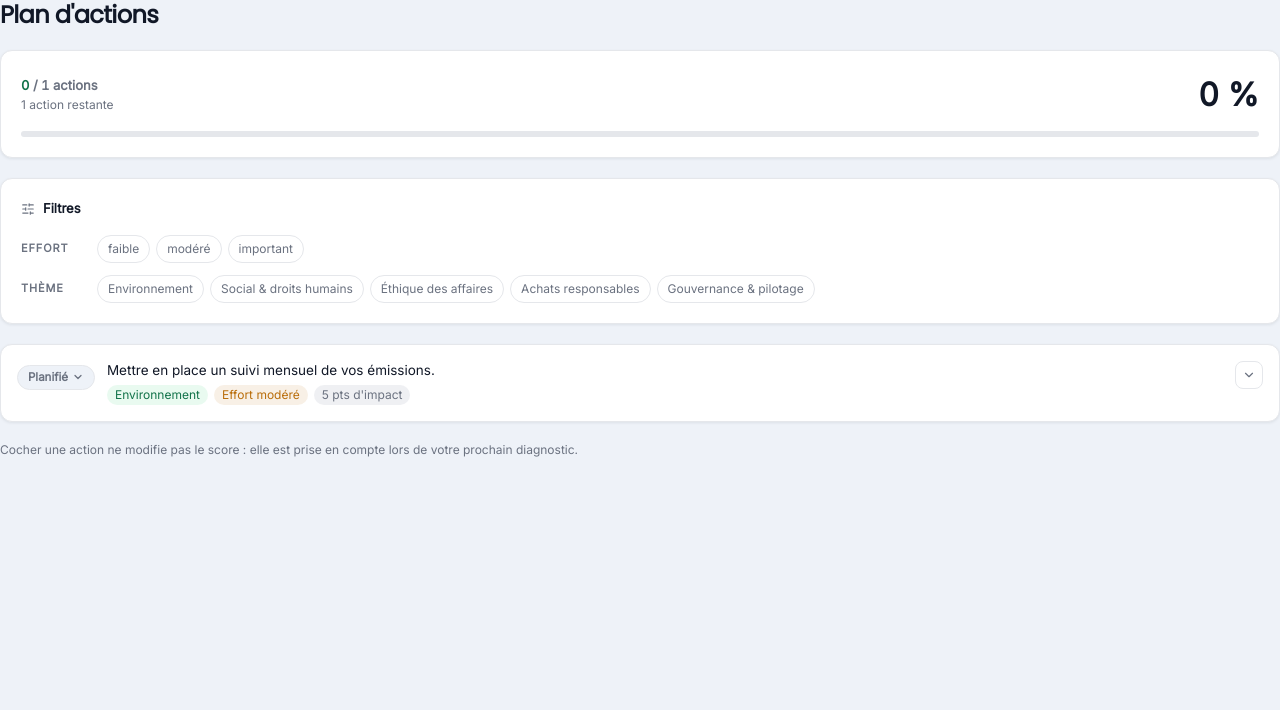
it: PlanActionsPage › un échec d’enregistrement est signalé et la saisie conservée
Click the button named "Modifier les détails": {"x": 1249, "y": 374} [1235, 360, 1263, 388]
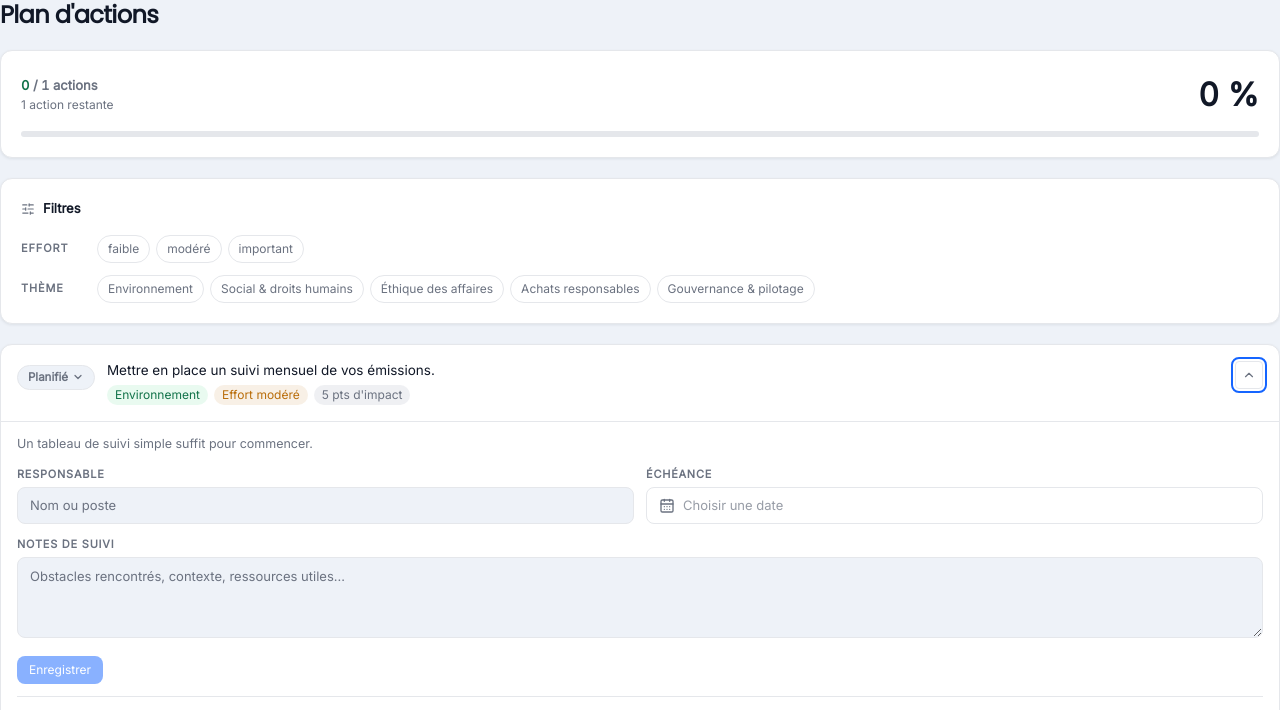
In the field labelled "Responsable": {"x": 326, "y": 506} [17, 487, 634, 524], type "Claire"
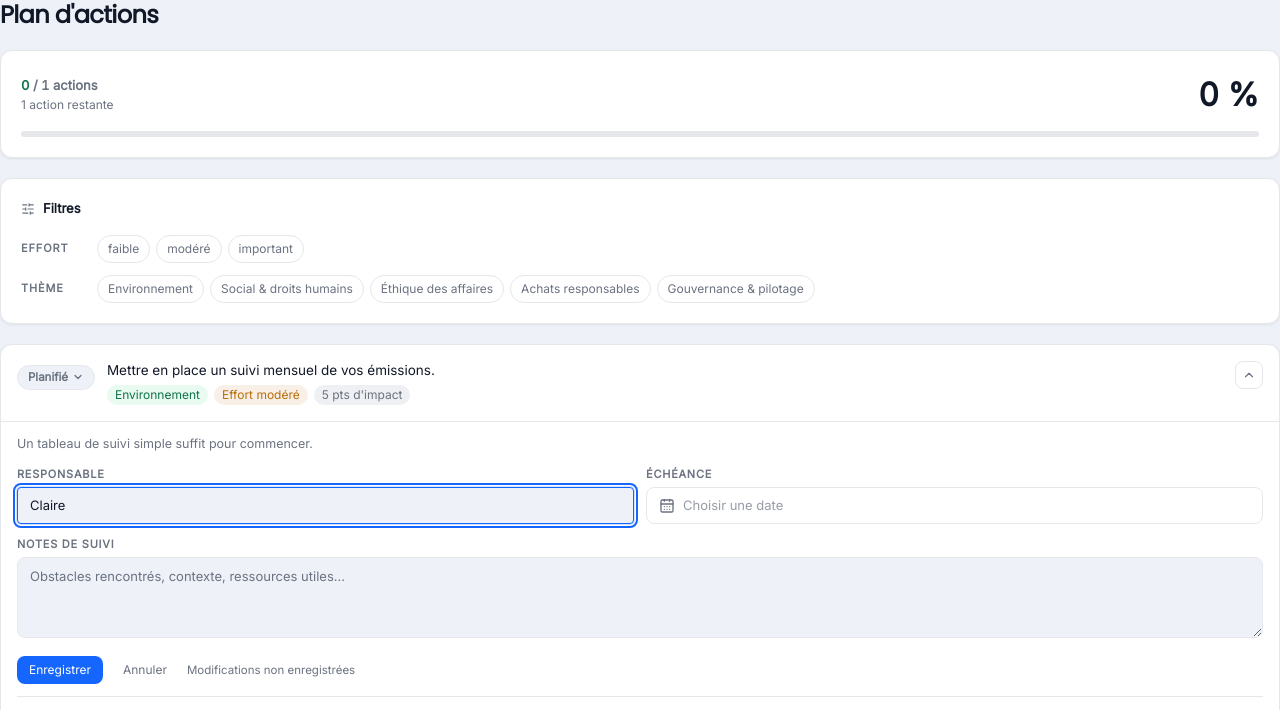
Click the button "Enregistrer": {"x": 60, "y": 670} [17, 656, 103, 684]
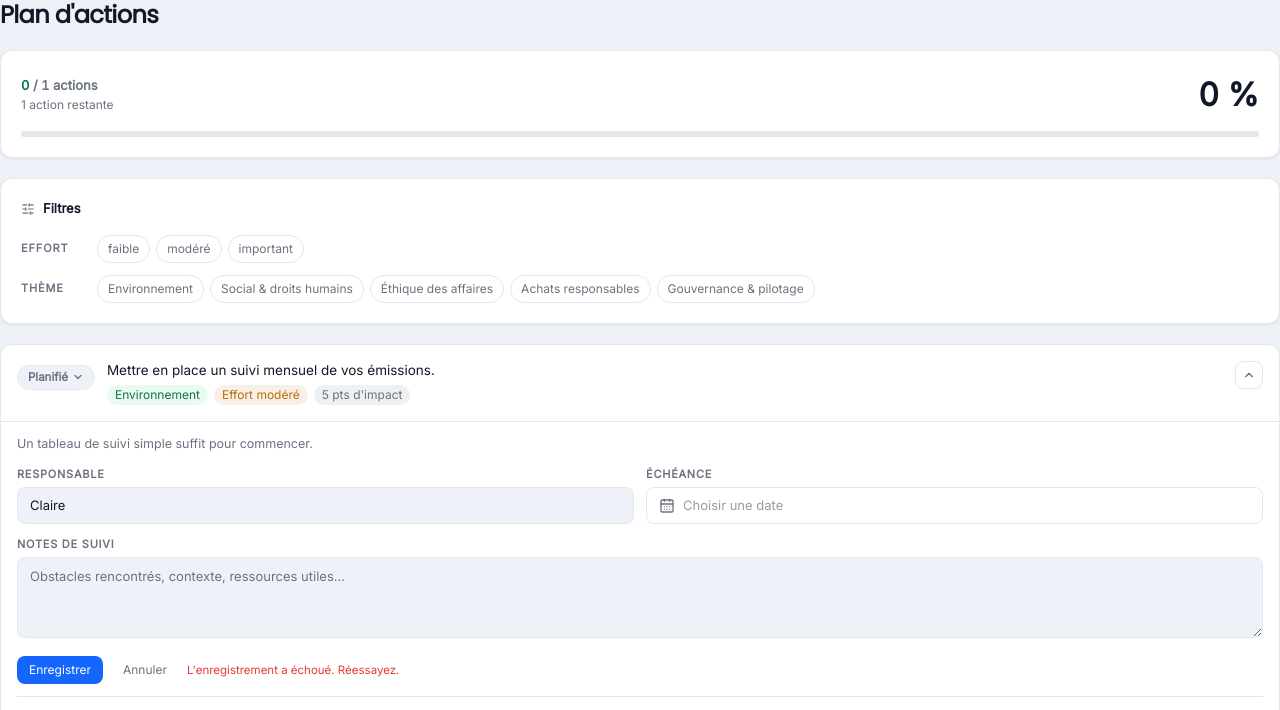
Check: the message shows "enregistrement a échoué", box [187, 663, 399, 677]
